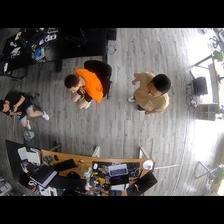normal: (1, 89, 50, 137), (63, 61, 105, 113), (127, 68, 171, 116)
